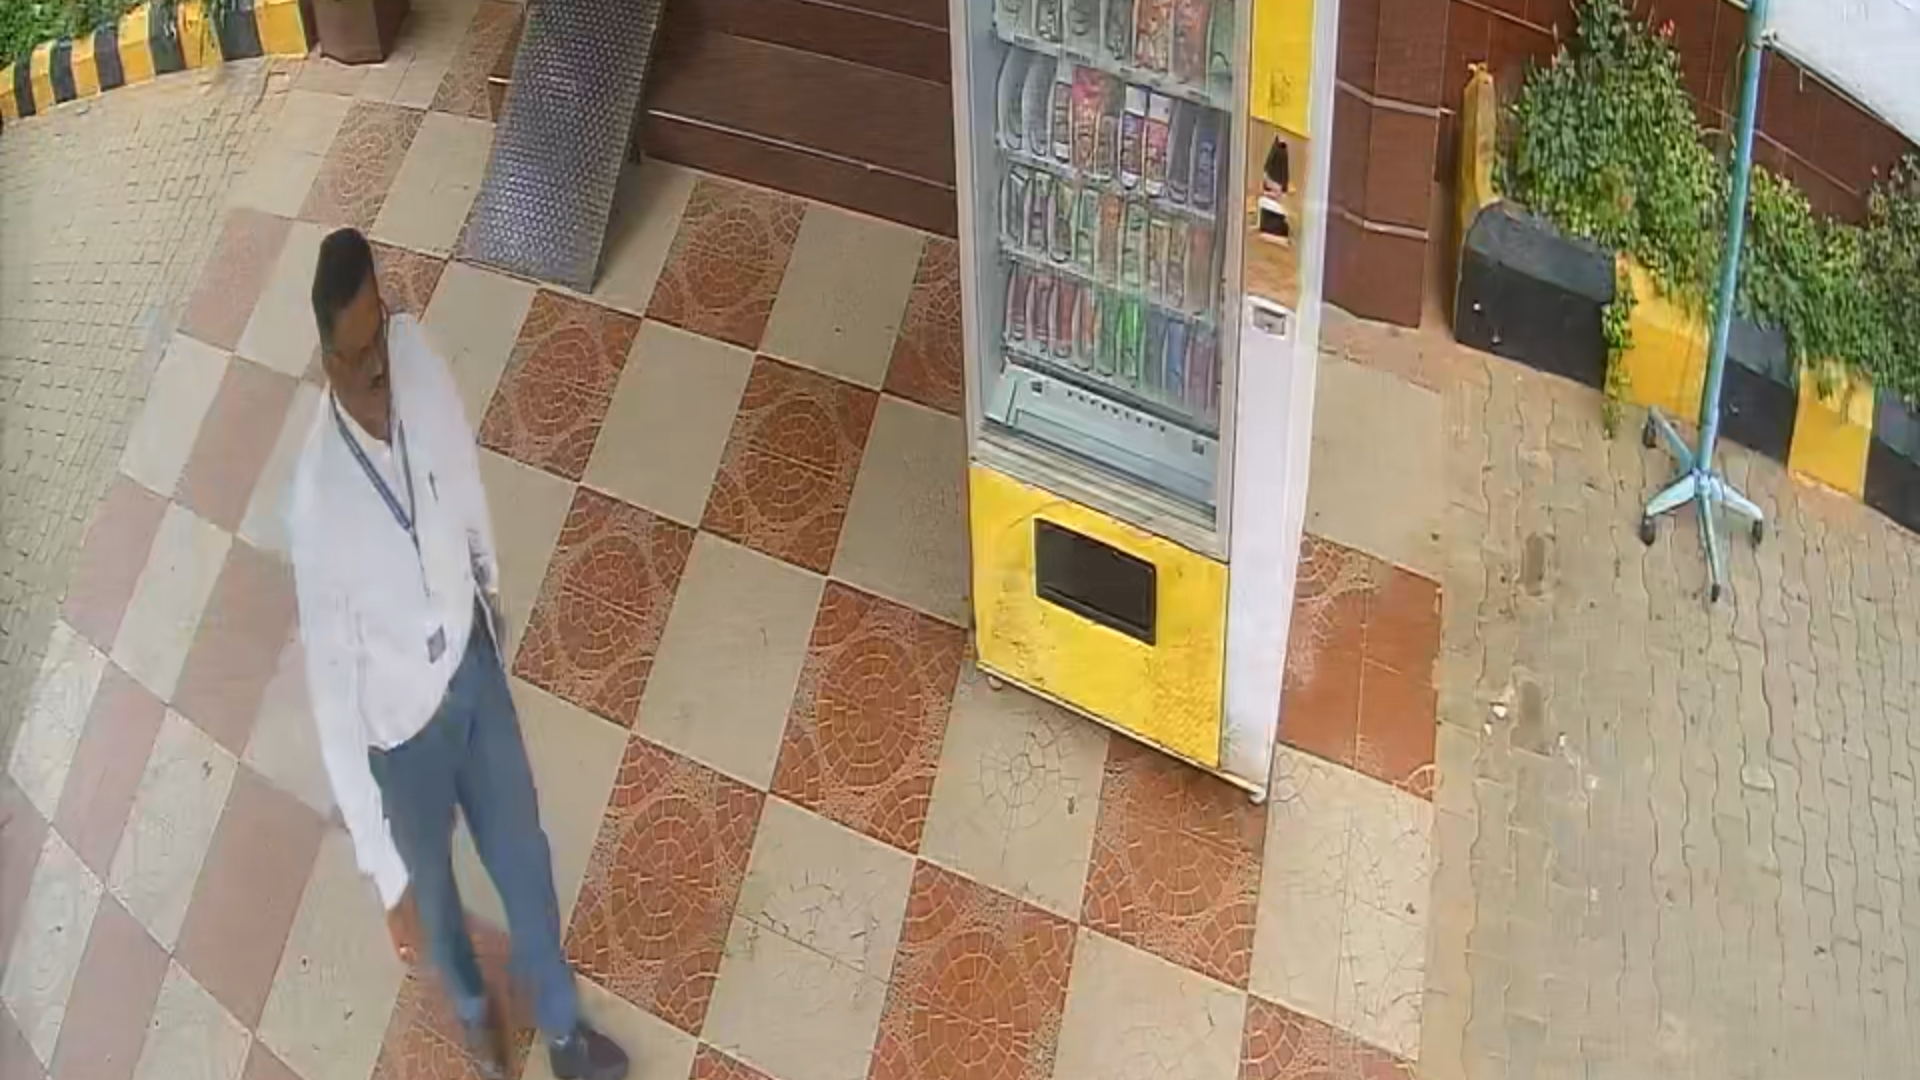not intruder: (298, 214, 608, 1080)
